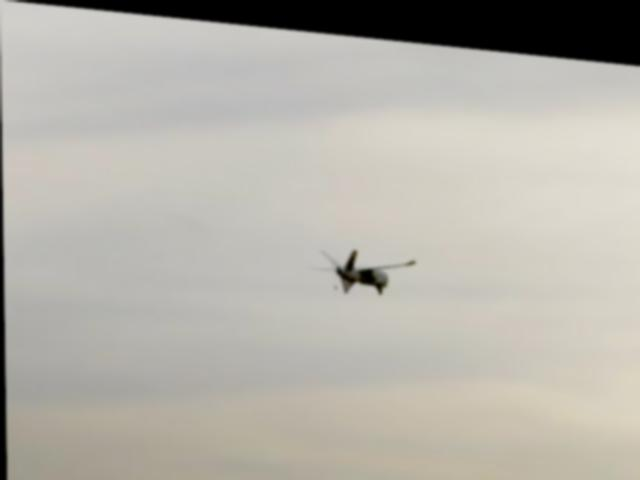uav: (303, 234, 418, 291)
